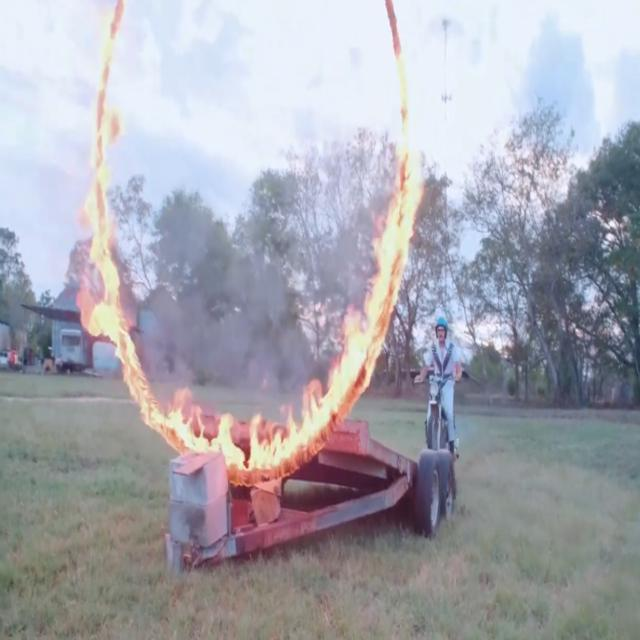fire: (165, 379, 339, 487), (329, 204, 415, 420), (77, 159, 130, 338), (385, 57, 425, 210), (90, 2, 122, 161), (115, 341, 164, 434)
